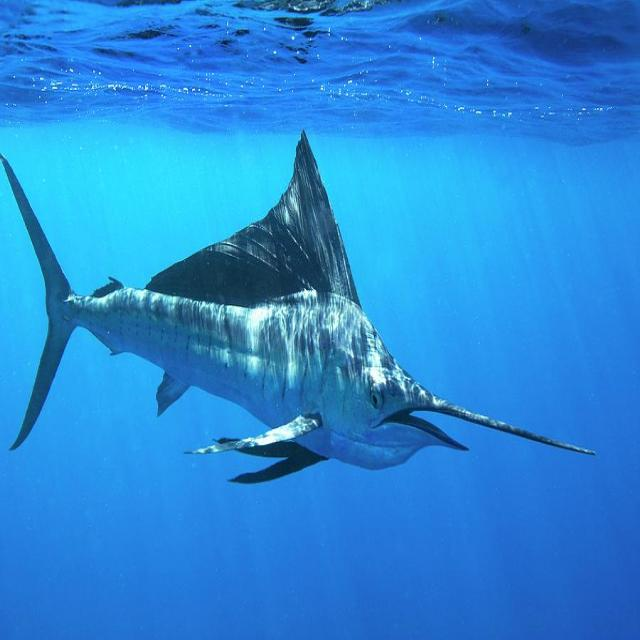Sail Fish: (1, 126, 597, 486)
